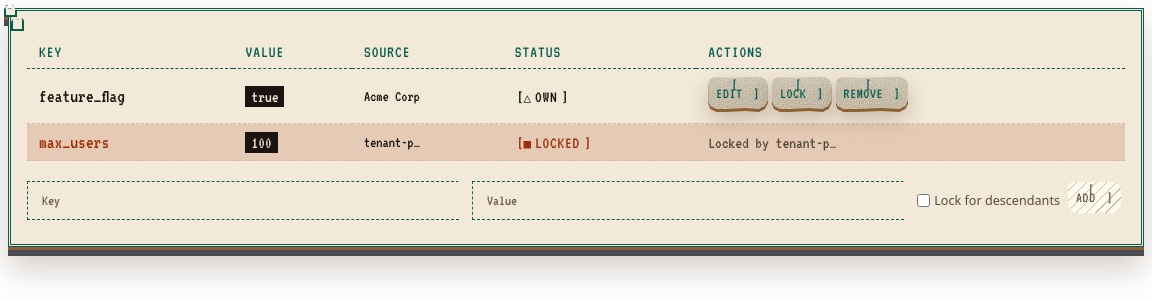
it: ConfigEditor › enables add button when a key is typed
Type "my_config_key" into the field named "new key" at (246, 200), box [27, 181, 464, 220]
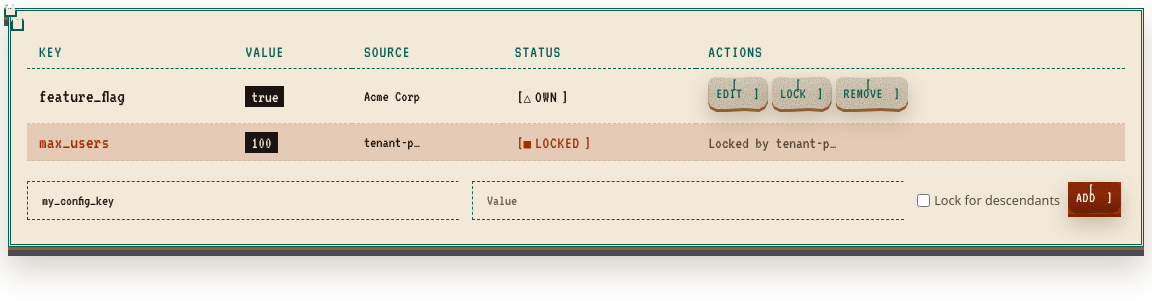
Result: the button "Add" is enabled at [1068, 182, 1121, 214]
